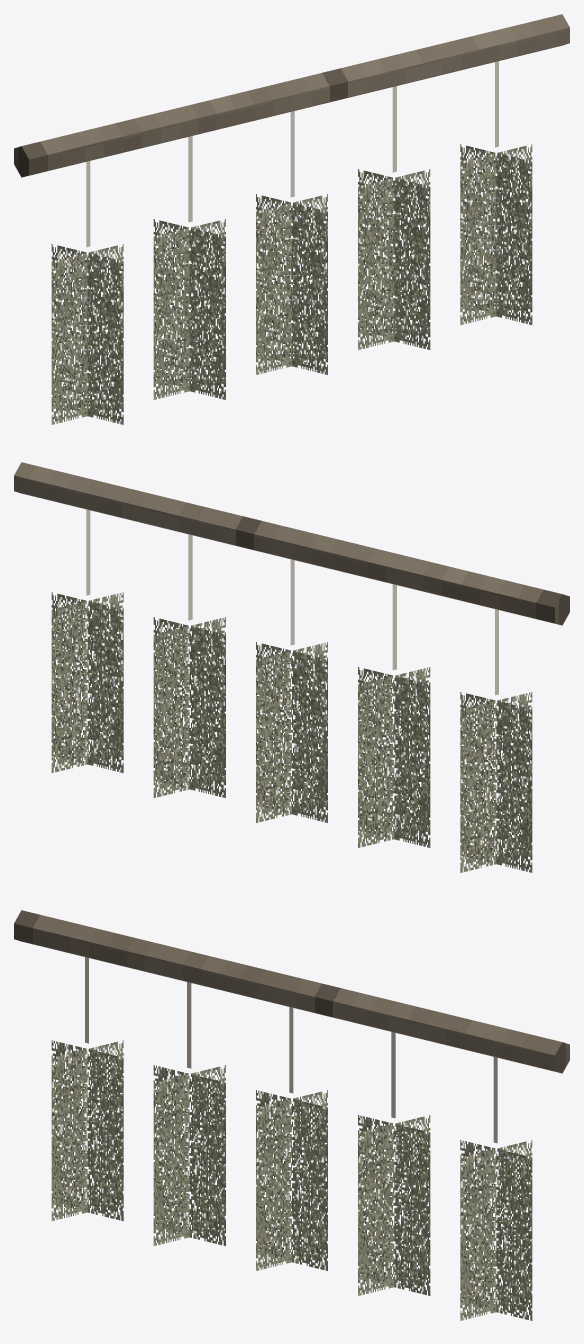
File: herbs_hanging.obj
3 renders of one model, top to bottom at view 1: azimuth 30°, elevation 25°; view 2: azimuth 150°, elevation 25°; view 3: azimuth 330°, elevation 25°, orthographic.
Parts seen in each view (by area): view 1: herbs_hanging; view 2: herbs_hanging; view 3: herbs_hanging.
Part boxes in pixels (x1,y1,x2,y2): herbs_hanging: (14,14,569,424); herbs_hanging: (14,462,569,872); herbs_hanging: (14,910,569,1320).
Bounding box in the file's own units: 0.9 × 0.455 × 0.1039.
